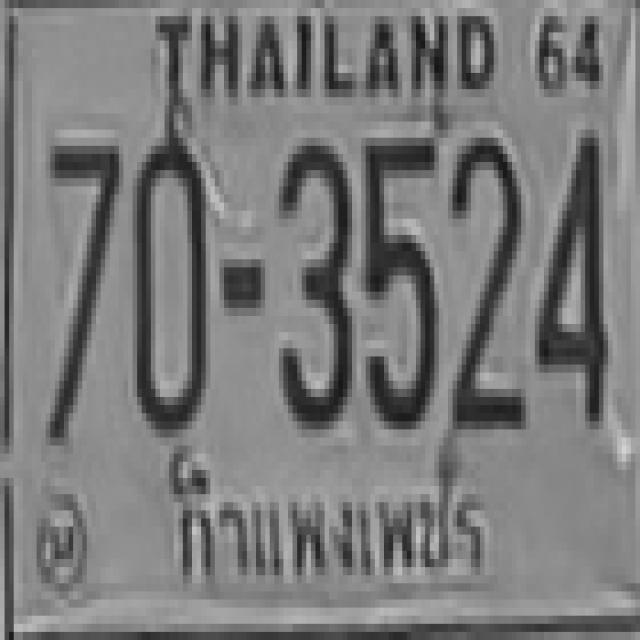0: (122, 94, 228, 443)
2: (446, 102, 542, 462)
3: (272, 110, 361, 426)
4: (522, 90, 622, 452)
5: (355, 111, 458, 468)
7: (32, 119, 124, 434)
KamphaengPhet: (153, 458, 534, 622)
